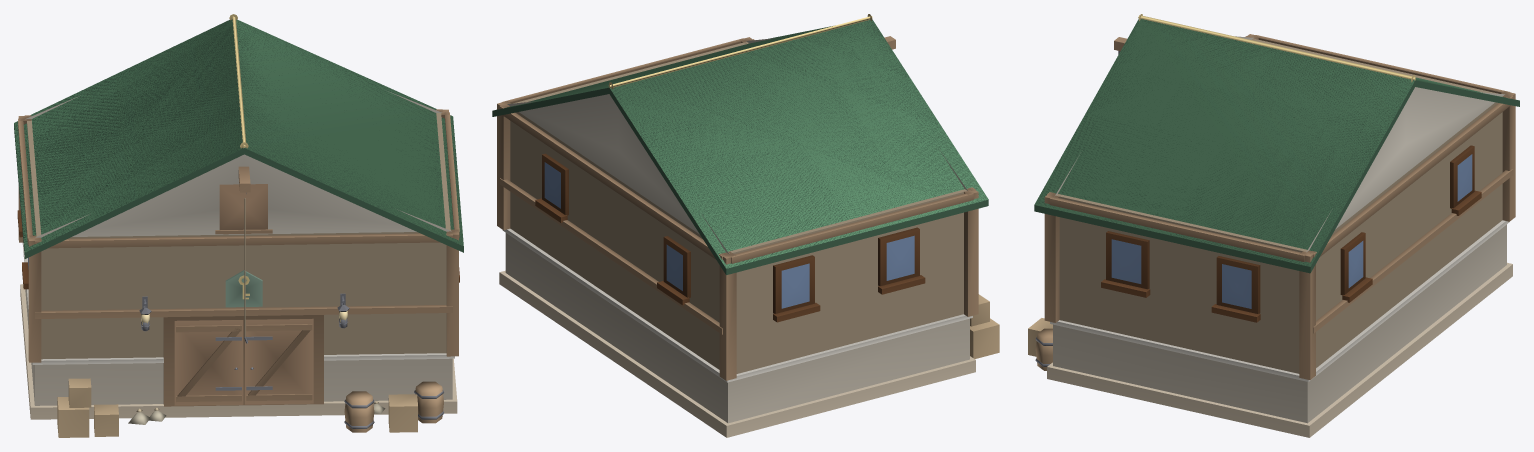
Rendered from warehouse_lite.glb.
3 views of the same model, side by side, from view 1: azimuth 30°, elevation 25°; view 2: azimuth 150°, elevation 25°; view 3: azimuth 270°, elevation 25° (orthographic).
Parts seen in each view (by area): view 1: Ware_props, Ware_roof, Ware_stone; view 2: Ware_props, Ware_roof, Ware_stone; view 3: Ware_roof, Ware_props, Ware_stone.
Boxes of the visible parts, left/top/right/bottom form: Ware_props: left=18, top=14, right=459, bottom=437; Ware_roof: left=14, top=19, right=463, bottom=258; Ware_stone: left=17, top=91, right=459, bottom=419; Ware_props: left=497, top=14, right=999, bottom=380; Ware_roof: left=492, top=19, right=988, bottom=274; Ware_stone: left=499, top=38, right=975, bottom=437; Ware_roof: left=1034, top=19, right=1519, bottom=273; Ware_props: left=1028, top=14, right=1515, bottom=379; Ware_stone: left=1047, top=36, right=1512, bottom=437.
Size of the model in its own units: 12.1 by 6.97 by 11.01.
